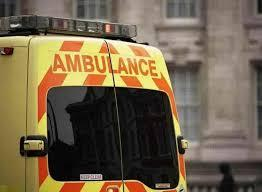Emergency-Vehicles: (0, 17, 199, 192)
